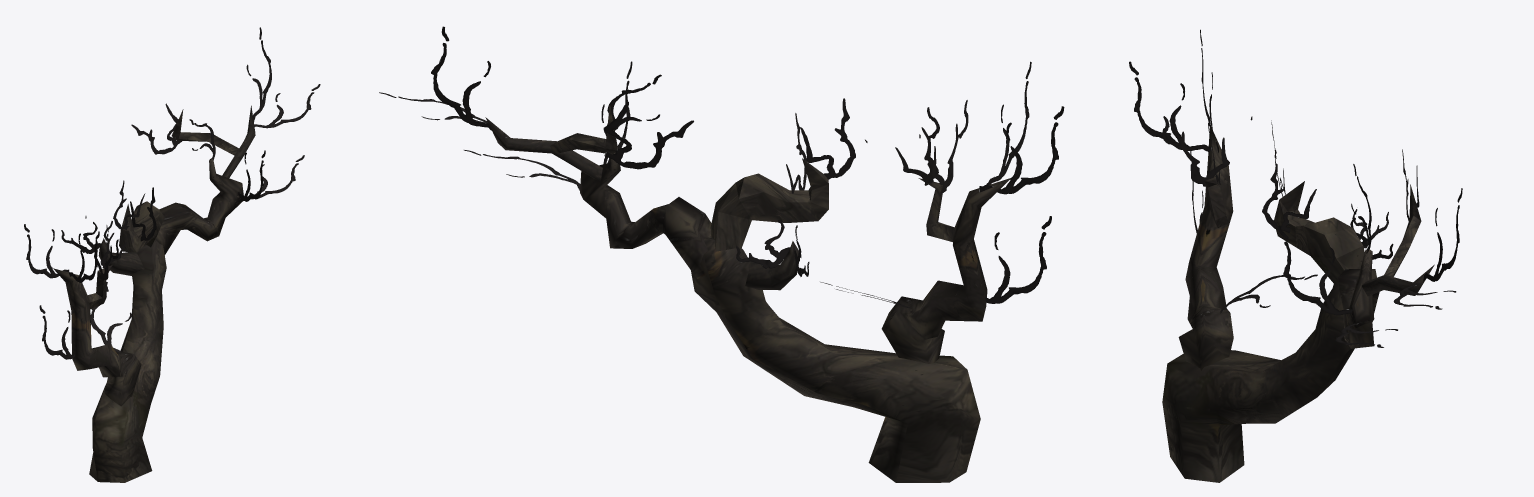
The model's file is huoguankushu2.FBX.
The picture shows the model from 3 angles, left to right: view 1: azimuth 30°, elevation 25°; view 2: azimuth 150°, elevation 25°; view 3: azimuth 270°, elevation 25°; orthographic projection. The views are drawn at different scales.
Parts seen in each view (by area): view 1: huoguankushu02; view 2: huoguankushu02; view 3: huoguankushu02.
Part boxes in pixels (left/top/right/bottom): huoguankushu02: left=24, top=27, right=320, bottom=482; huoguankushu02: left=379, top=26, right=1064, bottom=482; huoguankushu02: left=1129, top=29, right=1462, bottom=482.
Size of the model in its own units: 1129 by 722 by 863.
